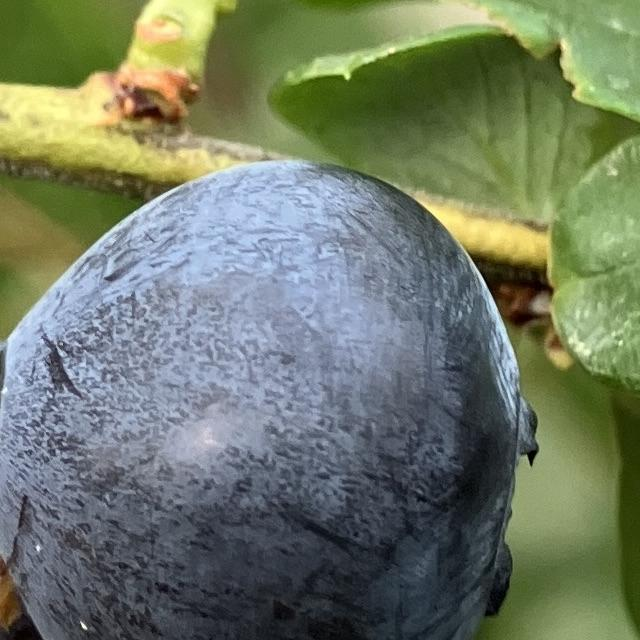Blueberries: (0, 152, 538, 640)
